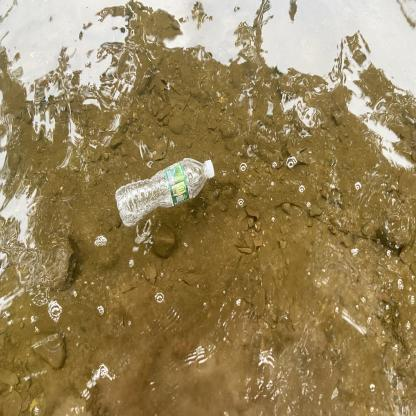trash: (112, 154, 221, 232)
